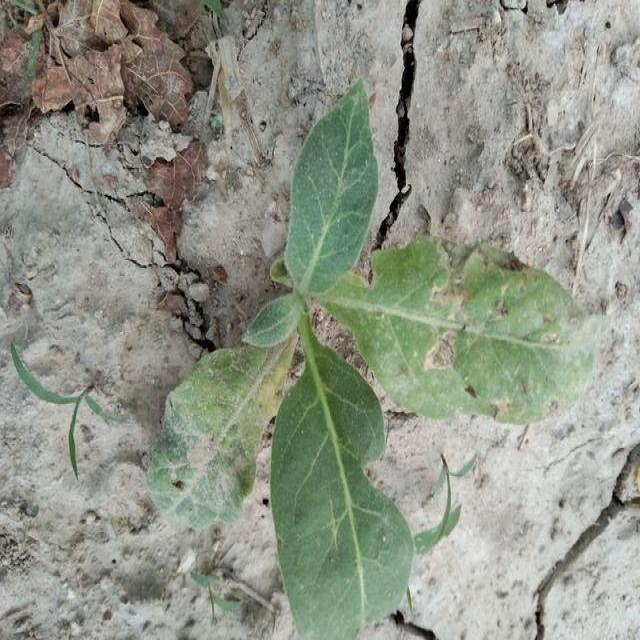crop: (171, 95, 582, 640)
